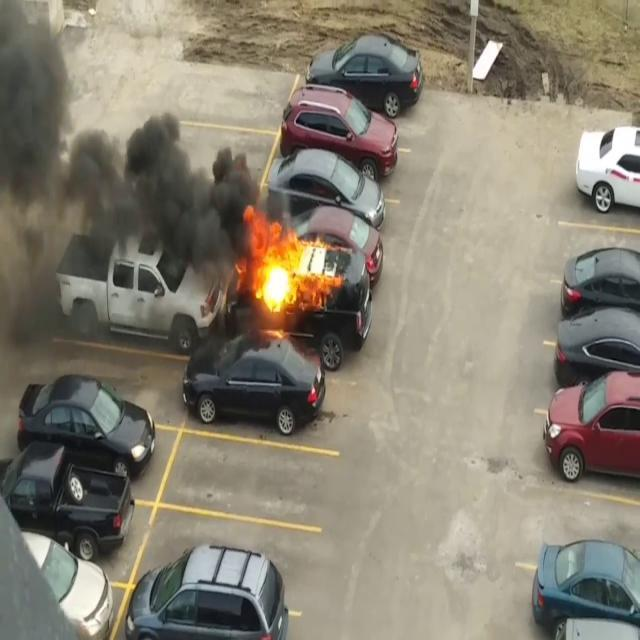Fire: (243, 204, 343, 314)
Smoke: (0, 0, 261, 293)
